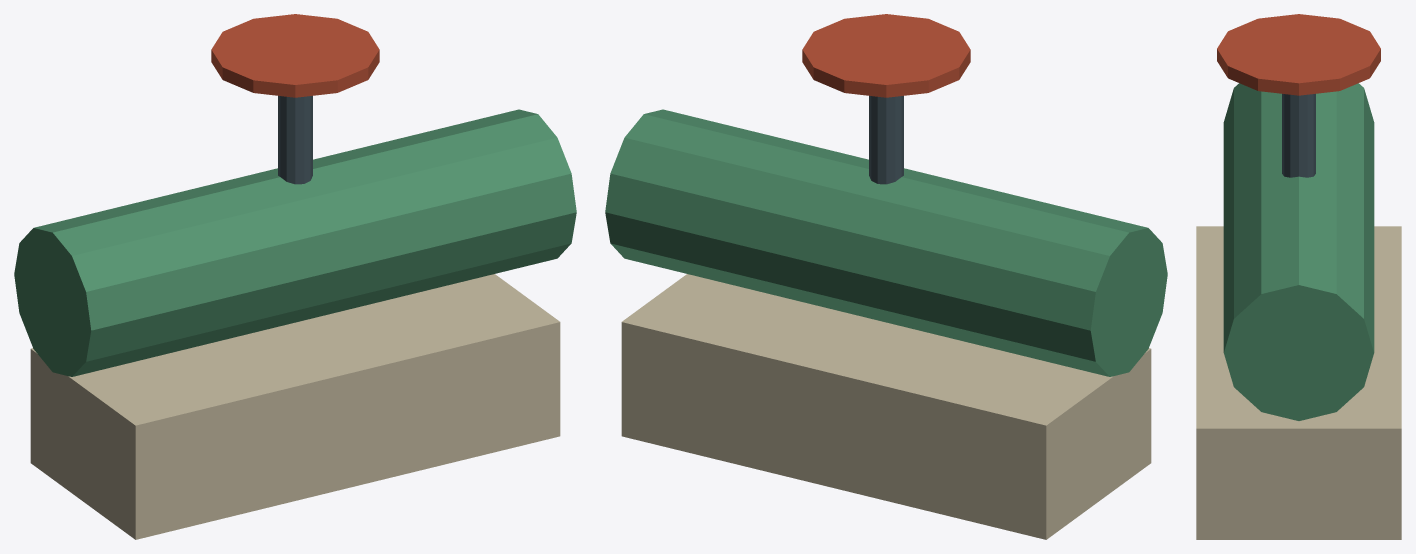
The model's file is pipe_valve.glb.
The picture shows the model from 3 angles, left to right: view 1: azimuth 30°, elevation 25°; view 2: azimuth 150°, elevation 25°; view 3: azimuth 270°, elevation 25°; orthographic projection. The views are drawn at different scales.
Parts seen in each view (by area): view 1: pipe_valve; view 2: pipe_valve; view 3: pipe_valve.
Part boxes in pixels (x1,y1,x2,y2): pipe_valve: (14, 14, 576, 539); pipe_valve: (605, 14, 1167, 539); pipe_valve: (1196, 14, 1401, 539).
Size of the model in its own units: 1.6 by 1.26 by 0.6.
